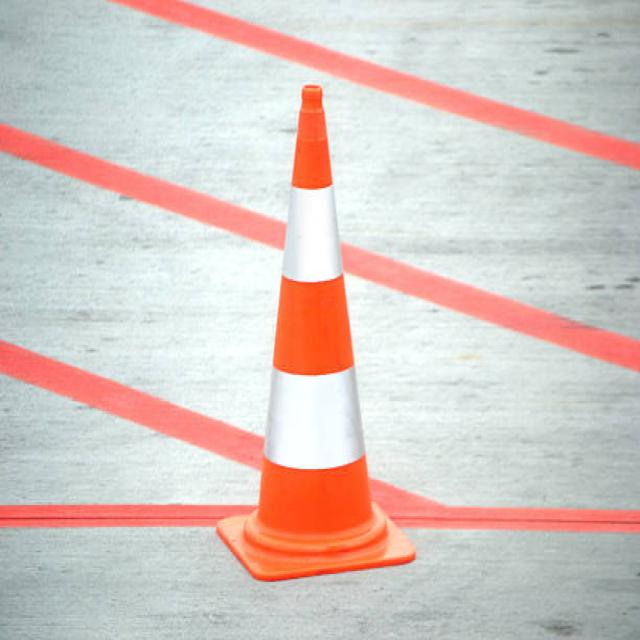Traffic Cone: (195, 54, 432, 614)
